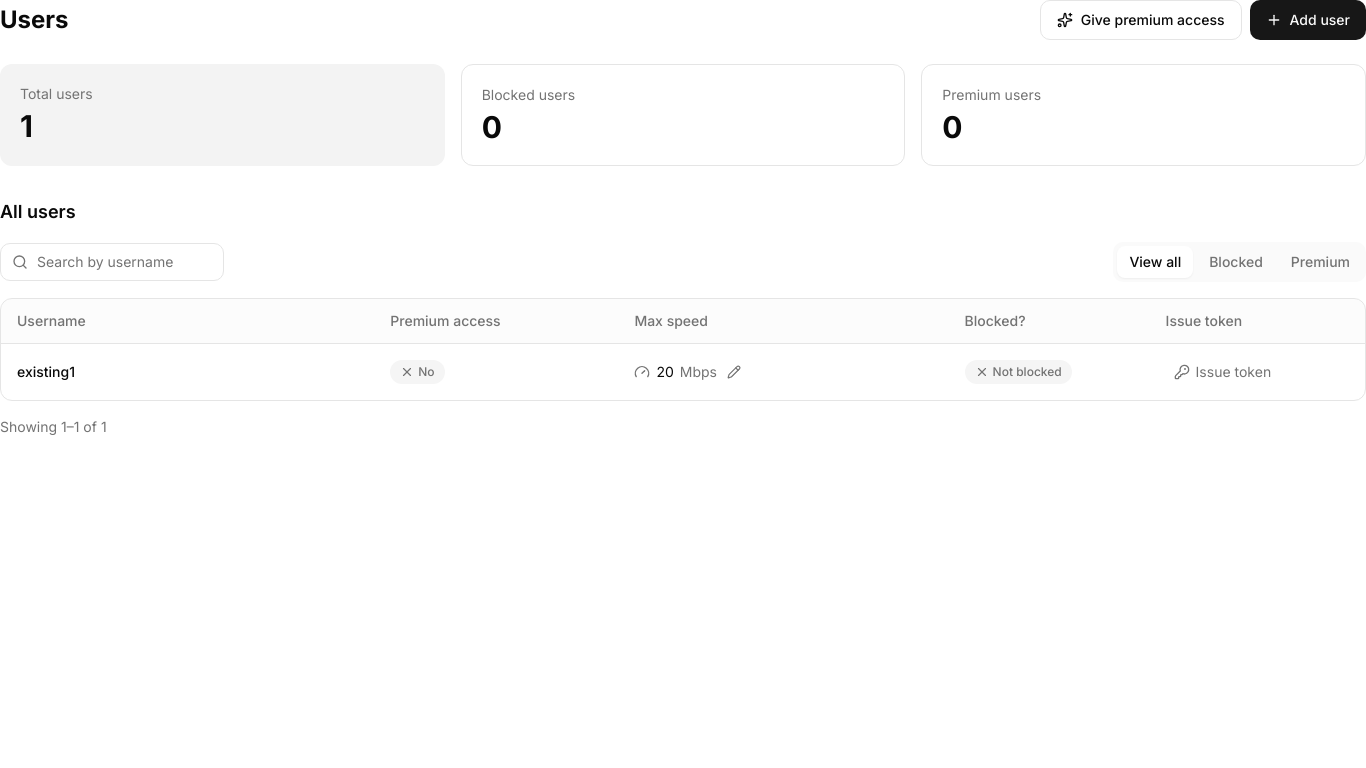
Users page — create user › opens the modal with a default max speed of 20
Click the button "Add user". click: (1308, 20)
box: x1=1250 y1=0 x2=1365 y2=40
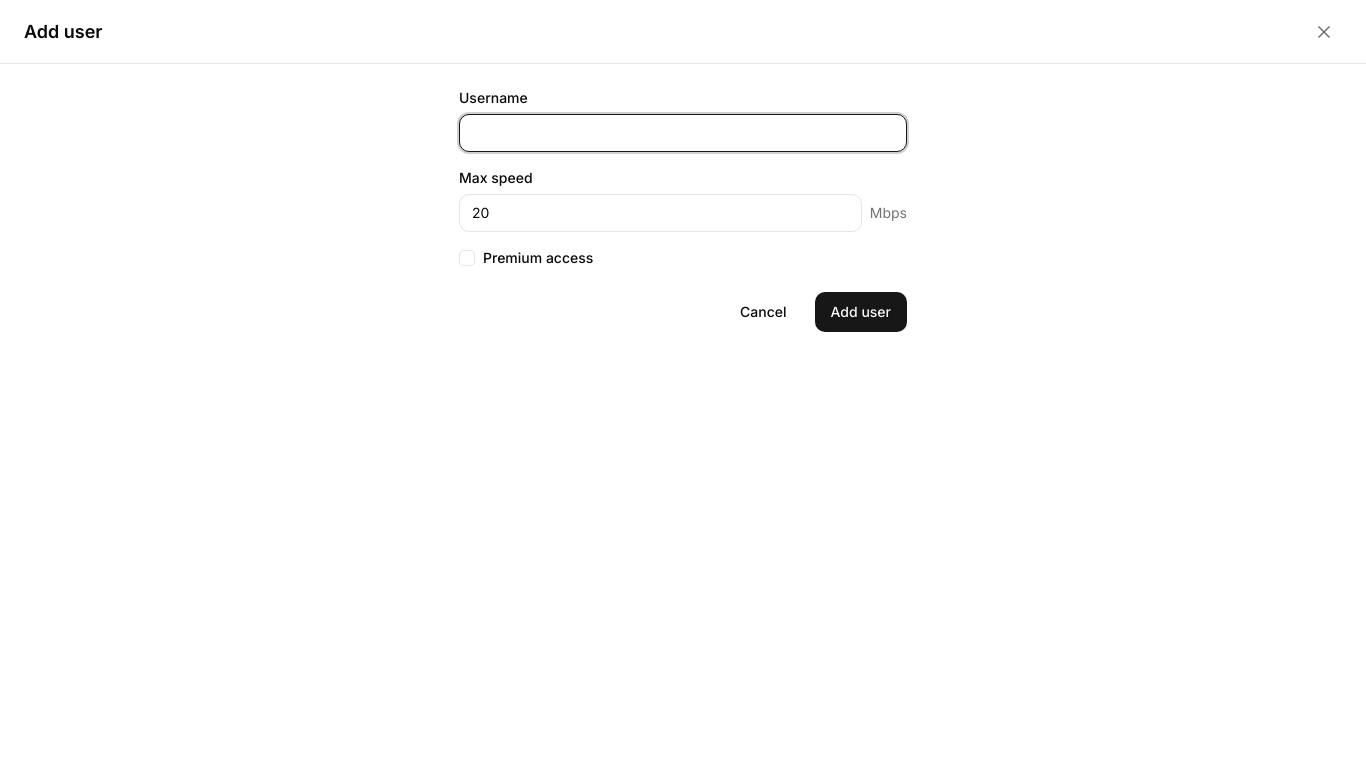
expect the field labelled "Username" is shown: met, box x1=459 y1=114 x2=907 y2=152
expect the number field labelled "Max speed" holds "20": met, box x1=459 y1=194 x2=862 y2=232
